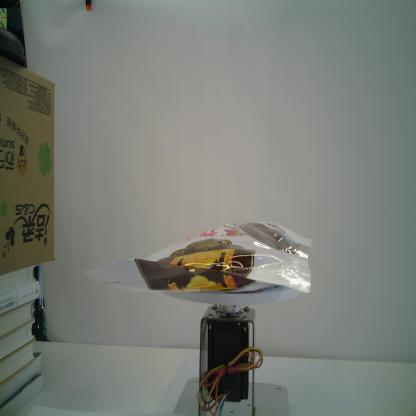Dried Food: (76, 218, 316, 300)
